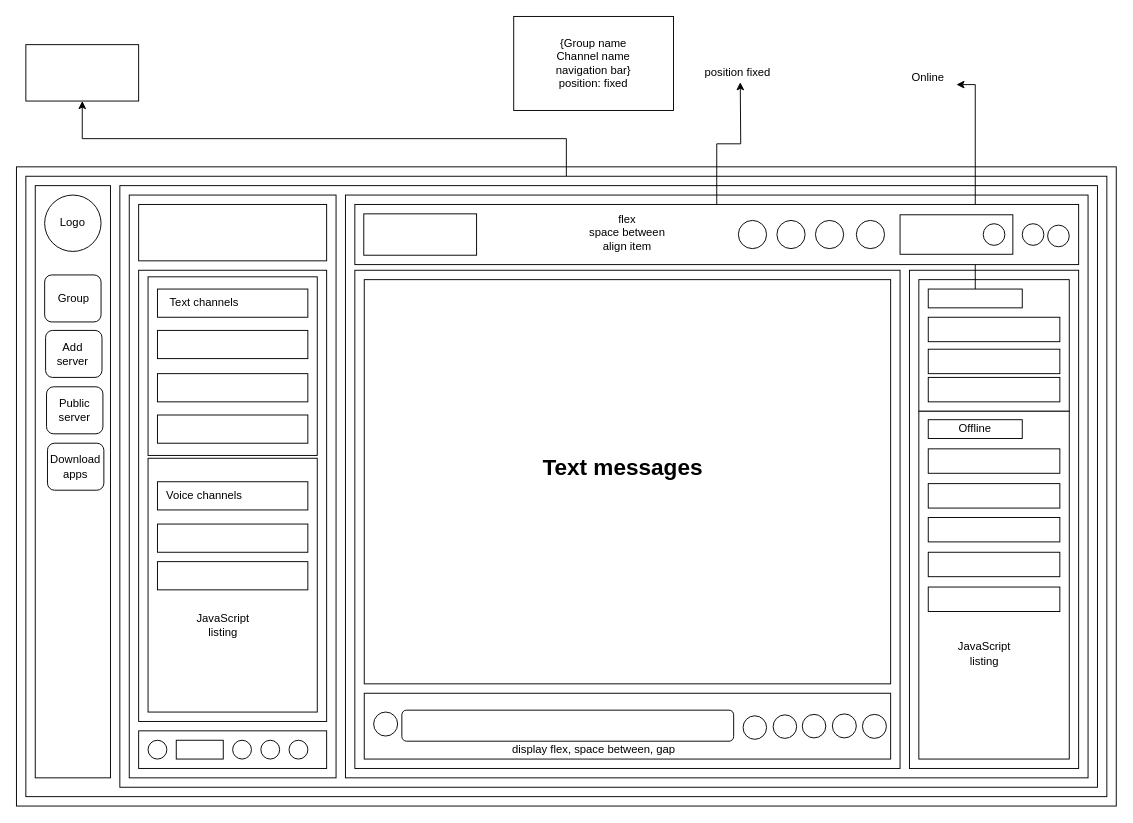
Some shapes in this 1133 by 823 pixel diagram are drawn without their labels. The box of each missing label's shape, as (x1, y1, x2, y2) in pixels:
Channel name: (363, 213, 477, 255)
display:grid gap padding margin: (25, 44, 139, 101)
Group name: (138, 204, 327, 261)
Text insert on enter or button press: (363, 279, 891, 684)
Type text to chat: (401, 709, 734, 741)
